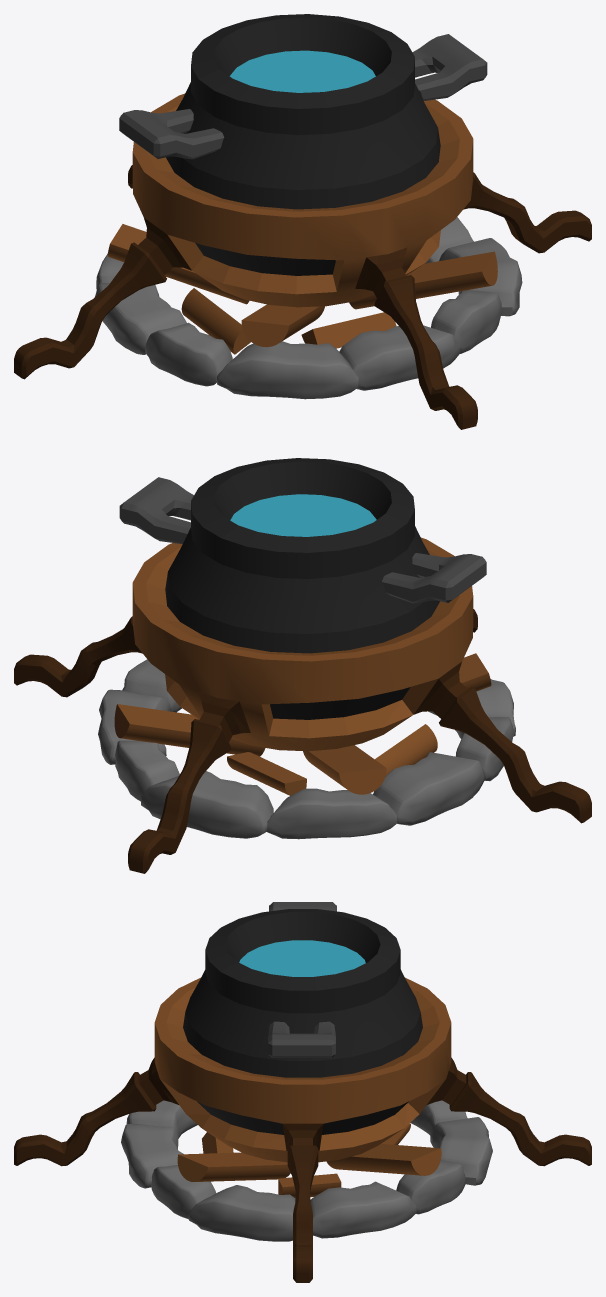
File: Cauldron Over Campfire.fbx
The picture shows the model from 3 angles, top to bottom: view 1: azimuth 30°, elevation 25°; view 2: azimuth 150°, elevation 25°; view 3: azimuth 270°, elevation 25°; orthographic projection. The views are drawn at different scales.
Visible parts, largest first — view 1: Sphere001, Box007, Box006, Box008, Box012, Box011, Box009, Cylinder004, Box005, Cylinder001, Box004, Cylinder005 (+3 smaller); view 2: Sphere001, Box009, Box010, Box001, Box012, Box011, Cylinder003, Cylinder002, Box002, Box003, Cylinder006, Cylinder005 (+4 smaller); view 3: Sphere001, Box004, Box003, Box001, Cylinder004, Box006, Cylinder003, Box002, Box011, Box005, Box007, Box010 (+2 smaller).
Boxes of the visible parts, box(x1,y1,x2,y2) form: Sphere001: box(14, 14, 591, 429); Box007: box(217, 341, 358, 399); Box006: box(339, 325, 460, 390); Box008: box(145, 322, 232, 386); Box012: box(119, 109, 224, 159); Box011: box(412, 34, 487, 100); Box009: box(95, 283, 186, 354); Cylinder004: box(349, 251, 497, 309); Box005: box(431, 290, 501, 353); Cylinder001: box(241, 304, 324, 347); Box004: box(439, 238, 522, 316); Cylinder005: box(181, 288, 250, 354); Sphere001: box(14, 458, 591, 873); Box009: box(373, 752, 485, 825); Box010: box(267, 788, 397, 839); Box001: box(141, 771, 273, 838); Box012: box(381, 553, 486, 603); Box011: box(119, 477, 193, 543); Cylinder003: box(114, 704, 265, 756); Cylinder002: box(303, 745, 386, 794); Box002: box(115, 740, 179, 801); Box003: box(98, 689, 169, 764); Cylinder006: box(227, 752, 306, 795); Cylinder005: box(375, 724, 437, 775); Sphere001: box(14, 909, 591, 1282); Box004: box(188, 1185, 295, 1241); Box003: box(310, 1181, 416, 1238); Box001: box(430, 1117, 492, 1185); Cylinder004: box(177, 1152, 290, 1181); Box006: box(121, 1123, 183, 1188); Cylinder003: box(326, 1144, 441, 1175); Box002: box(396, 1161, 465, 1214); Box011: box(268, 1021, 335, 1057); Box005: box(151, 1165, 215, 1218); Box007: box(126, 1100, 197, 1138); Box010: box(410, 1100, 467, 1135).
Bounding box in the file's own units: 134 × 57.16 × 136.
